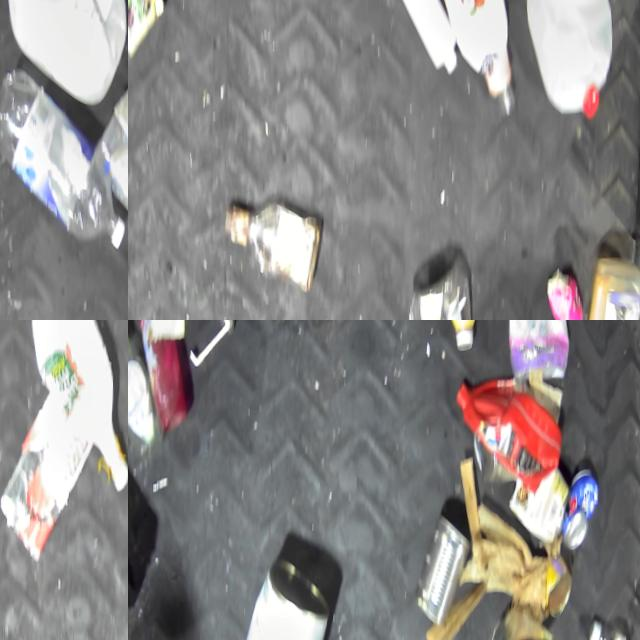can: (228, 548, 333, 640), (412, 503, 472, 627), (558, 455, 601, 549), (486, 598, 556, 640), (540, 256, 584, 320), (128, 0, 167, 64), (543, 545, 574, 615)
milk_jug: (0, 0, 128, 106), (521, 0, 618, 117)
non_white_jug: (452, 365, 565, 492)
plastic_bottle: (0, 62, 128, 247), (89, 103, 128, 245), (582, 608, 635, 640)
